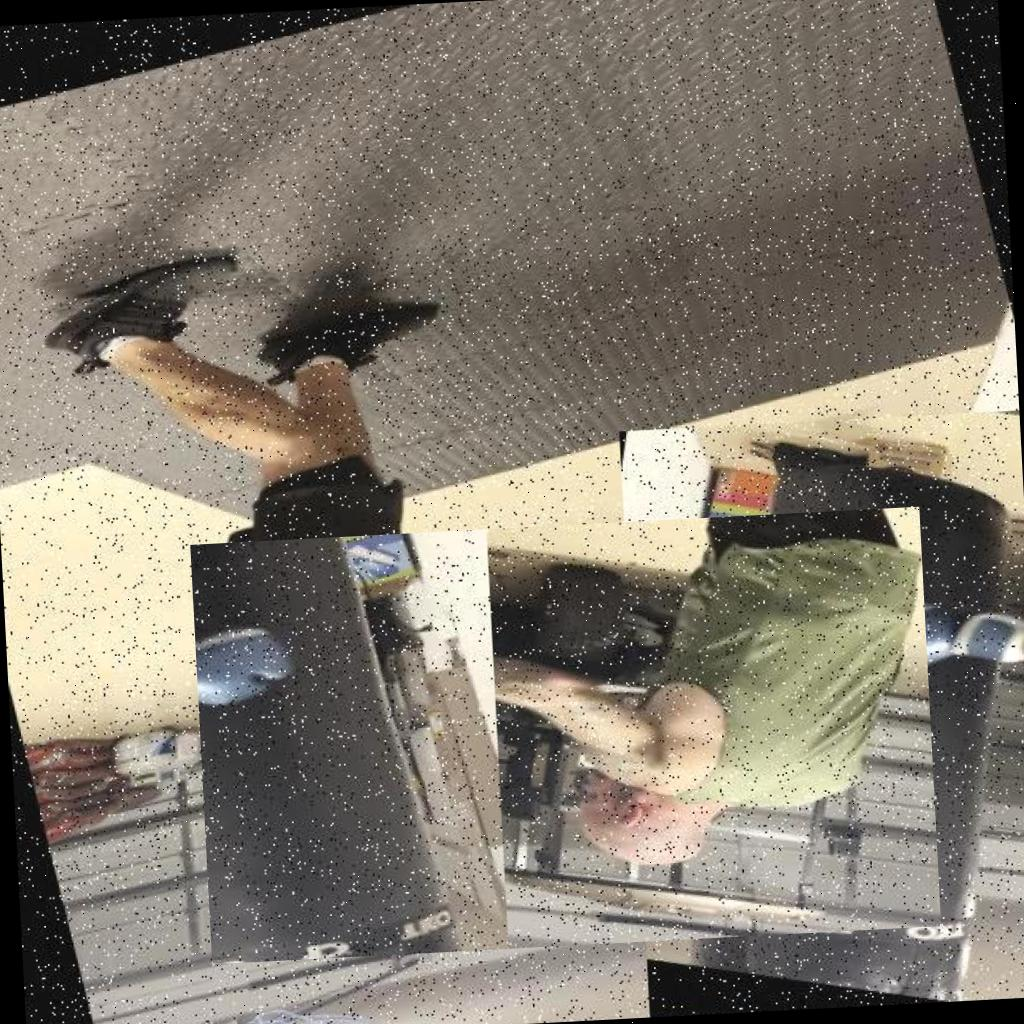bag: (619, 410, 1024, 1017)
hook: (191, 507, 942, 964)
